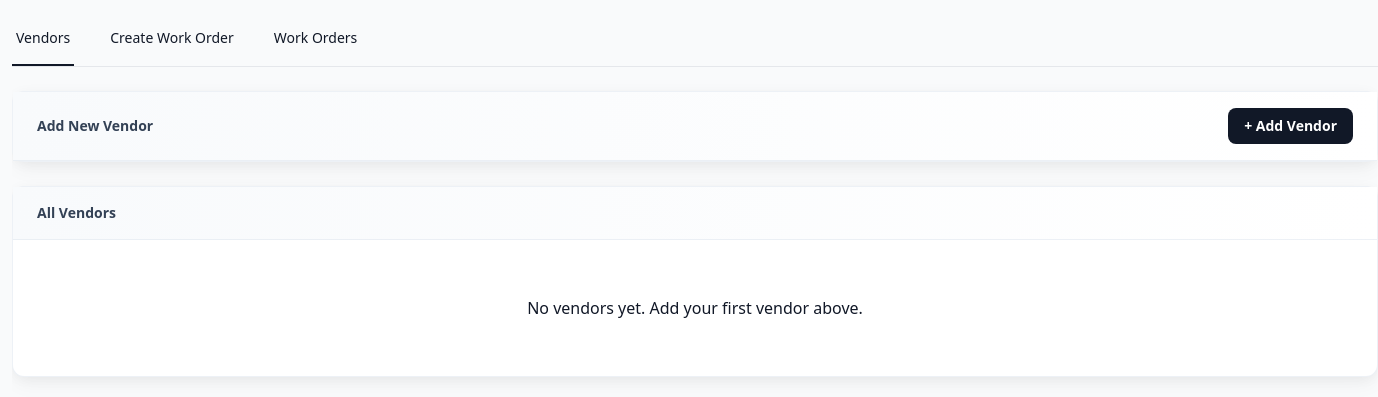
Scenario: MaintenancePage › should filter work orders by property
The width and height of the screenshot is (1378, 397).
Click the button "Work Orders".
click(316, 39)  # box top-left (270, 12), bottom-right (361, 66)
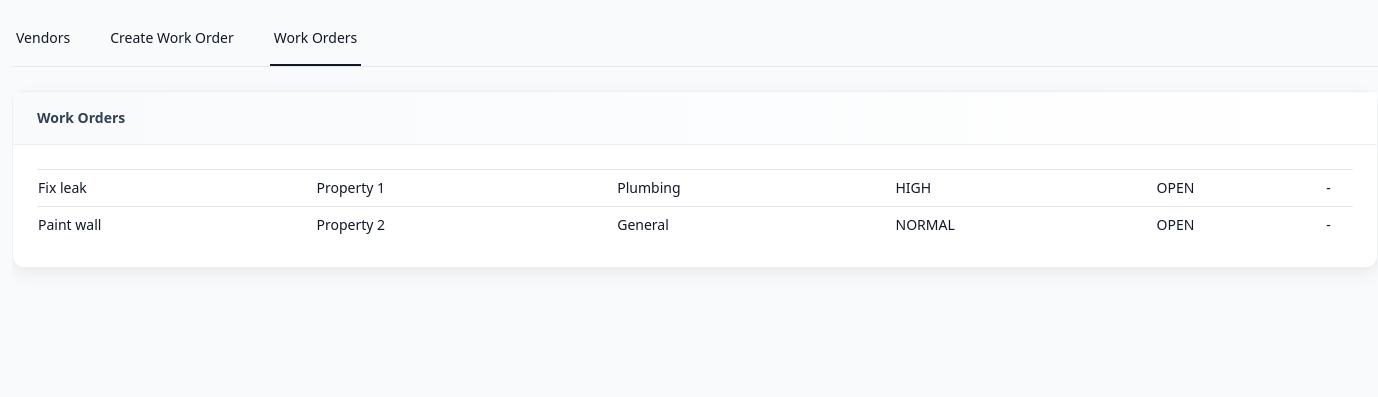
Expected: the link "Fix leak" is shown, top-left (38, 178), bottom-right (87, 197)
Expected: the link "Paint wall" is shown, top-left (38, 215), bottom-right (101, 234)
